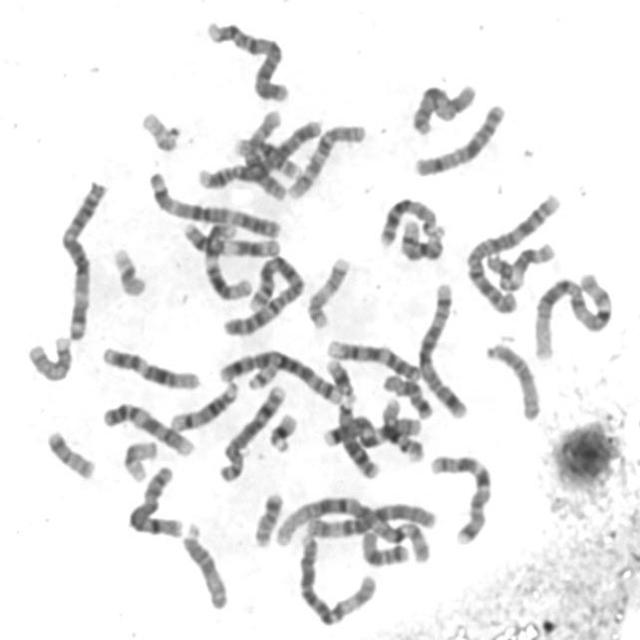A1: (273, 490, 437, 562), (529, 266, 616, 362)
A2: (462, 187, 563, 316), (218, 250, 307, 339)
A3: (143, 164, 284, 240), (56, 174, 111, 343)
B4: (192, 112, 326, 191), (201, 13, 291, 104)
B5: (214, 343, 347, 406), (414, 277, 472, 420)
C10: (283, 116, 370, 200), (240, 106, 291, 210)
C11: (178, 217, 284, 259), (489, 236, 556, 292)
C12: (97, 340, 203, 392), (198, 215, 256, 301)
C6: (293, 528, 380, 627), (290, 495, 438, 543)
C7: (424, 448, 496, 547), (319, 411, 425, 449)
C8: (214, 379, 288, 483), (124, 462, 186, 541)
C9: (98, 397, 197, 459), (323, 335, 424, 383)
D13: (334, 392, 383, 481), (373, 191, 448, 249)
D14: (168, 376, 242, 432), (400, 216, 448, 263)
D15: (482, 336, 544, 423), (178, 517, 232, 612)
E16: (229, 131, 304, 180), (377, 393, 428, 464)
E17: (303, 250, 353, 332), (23, 329, 75, 383)
E18: (378, 369, 436, 420), (357, 524, 413, 568)
F19: (108, 241, 150, 299), (118, 435, 160, 483)
F20: (42, 424, 99, 481), (249, 487, 286, 548)
G21: (322, 353, 358, 401), (264, 407, 300, 454)
G22: (136, 105, 184, 153), (243, 355, 281, 391)
X: (410, 97, 508, 178), (408, 78, 478, 137)
